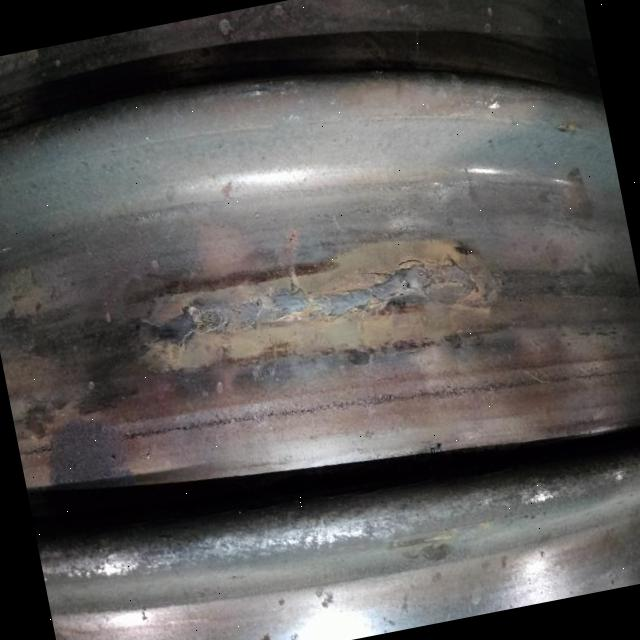Rollerpile: (133, 238, 500, 381)
